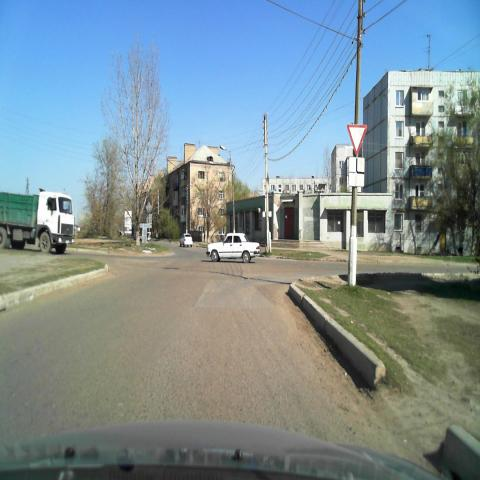8_13: (348, 156, 365, 186)
